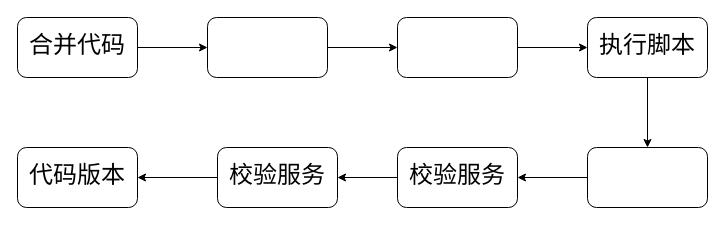
The diagram is 725 pixels wide and 225 high, and some of its shapes have lost their labels. Each missing label, with the centre of its shape:
下线服务: (x=267, y=47)
启动服务: (x=647, y=177)
备份数据: (x=457, y=47)
